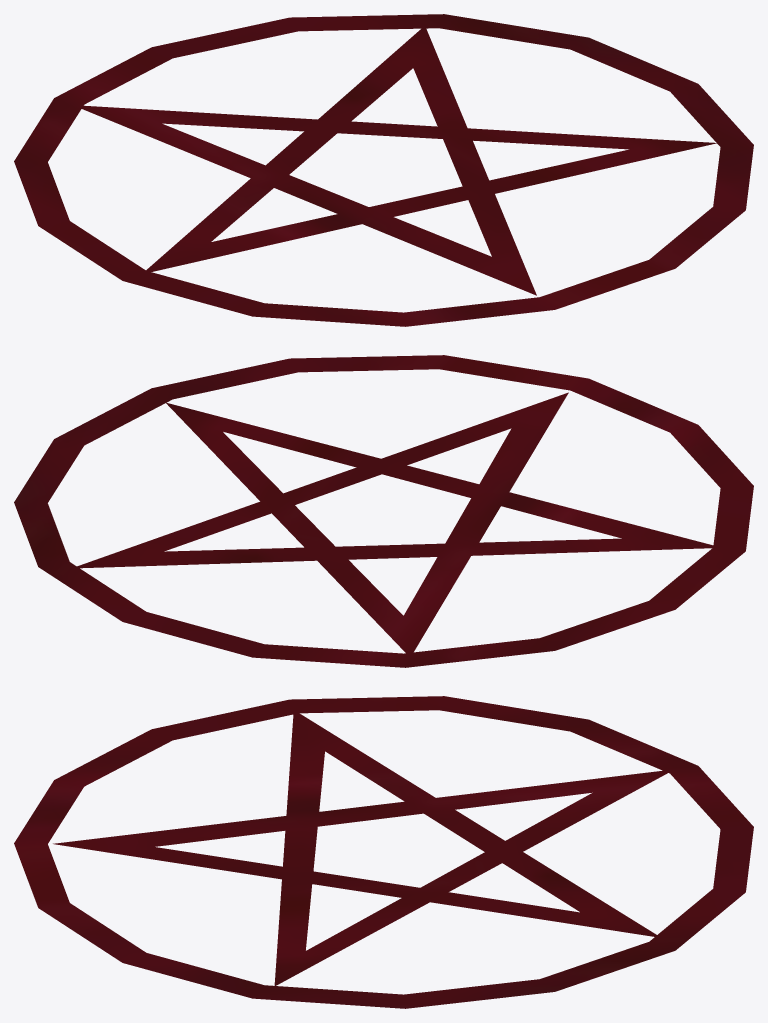
File: DT_2ND_FLOOR_BANNKREIS_02.glb
The picture shows the model from 3 angles, top to bottom: view 1: azimuth 30°, elevation 25°; view 2: azimuth 150°, elevation 25°; view 3: azimuth 270°, elevation 25°; orthographic projection.
Parts seen in each view (by area): view 1: Mesh; view 2: Mesh; view 3: Mesh.
Part boxes in pixels (box(x1,y1,x2,y2)): Mesh: box(14, 14, 753, 326); Mesh: box(14, 355, 753, 667); Mesh: box(14, 696, 753, 1008).
Size of the model in its own units: 4.59 by 0.00056 by 4.59.
1 material, 1 textured.
